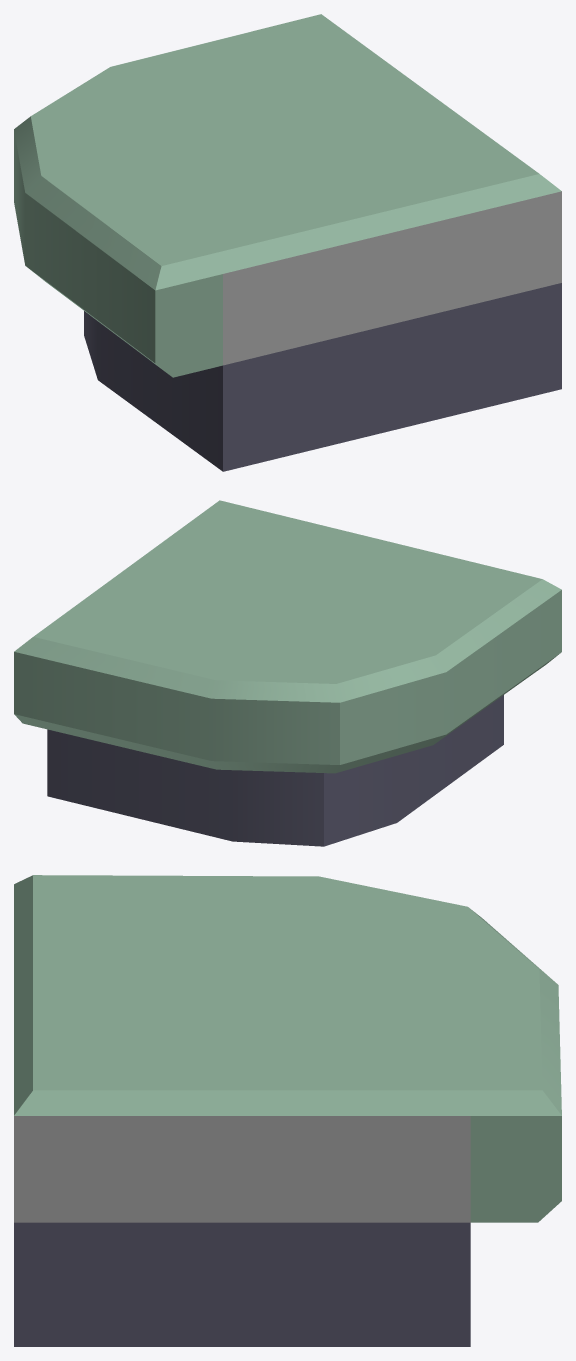
Rendered from topLTile.fbx.
3 views of the same model, one above another, from view 1: azimuth 30°, elevation 25°; view 2: azimuth 150°, elevation 25°; view 3: azimuth 270°, elevation 25° (orthographic). The views are drawn at different scales.
Visible parts, largest first — view 1: tlTile; view 2: tlTile; view 3: tlTile.
Boxes of the visible parts, <box> form: tlTile: <box>14,14,561,471</box>; tlTile: <box>14,500,561,846</box>; tlTile: <box>14,875,561,1346</box>.
Size of the model in its own units: 60 by 30 by 60.
